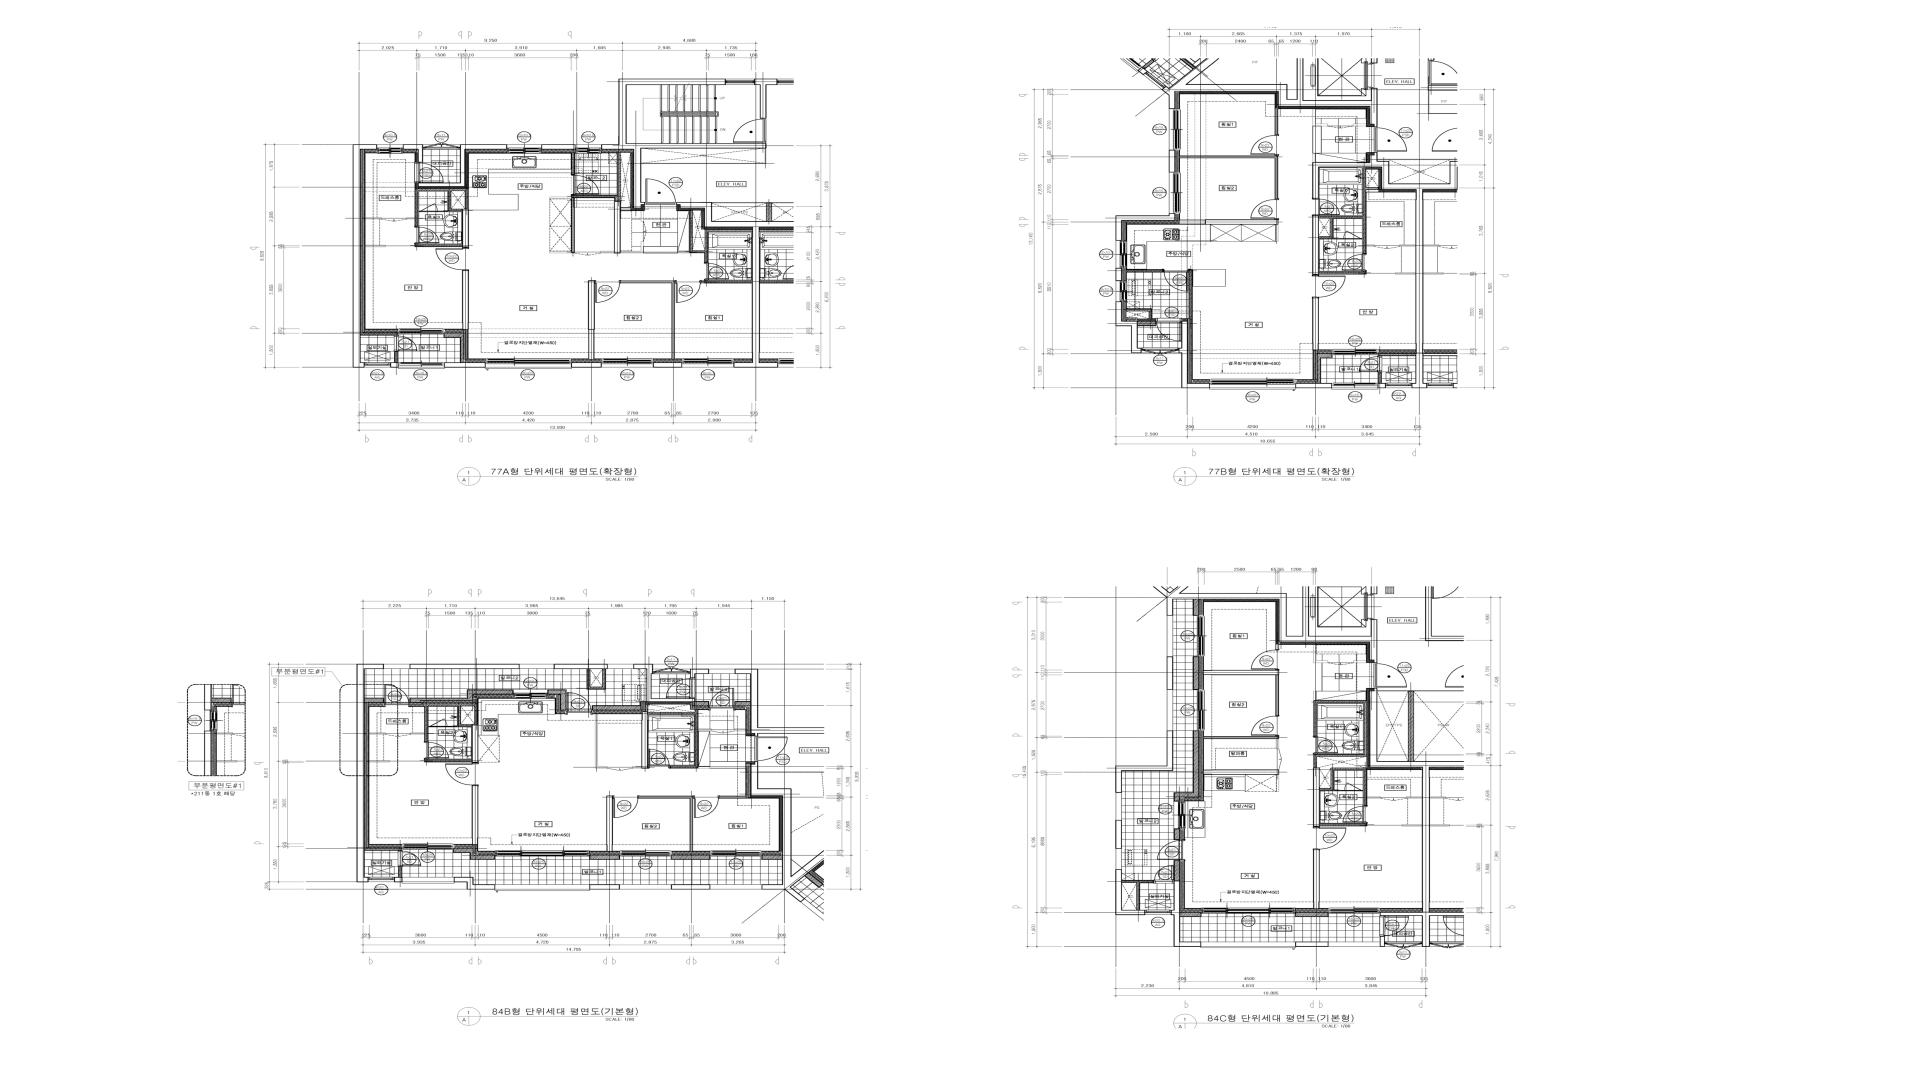door: (645, 178, 676, 204), (754, 736, 787, 761), (1374, 127, 1407, 152), (733, 119, 766, 144), (1312, 274, 1346, 298), (444, 762, 479, 786), (435, 247, 469, 270), (1374, 663, 1407, 687), (1313, 827, 1346, 849), (663, 678, 696, 698), (1379, 915, 1410, 936), (675, 280, 702, 303), (595, 280, 621, 303), (692, 795, 720, 818), (1250, 135, 1279, 156), (571, 174, 600, 195), (1156, 318, 1182, 342), (1163, 269, 1189, 291), (384, 684, 410, 707), (1251, 649, 1279, 670), (1250, 199, 1279, 219), (414, 162, 443, 182), (613, 795, 638, 818), (709, 688, 735, 711), (567, 692, 592, 715), (1251, 716, 1279, 736), (1158, 840, 1185, 860), (1312, 198, 1340, 215), (414, 225, 439, 244), (423, 741, 448, 758), (1342, 806, 1367, 823), (1313, 736, 1338, 753), (1342, 253, 1367, 270), (704, 262, 729, 280), (649, 749, 670, 769), (1358, 356, 1382, 372), (1154, 865, 1174, 884), (398, 851, 421, 866), (394, 335, 417, 351), (1142, 348, 1179, 355), (653, 667, 690, 674), (1385, 942, 1422, 948), (423, 142, 460, 149), (1345, 782, 1362, 791), (421, 203, 438, 212), (430, 719, 447, 727), (1344, 231, 1361, 239), (1374, 245, 1400, 249), (1381, 796, 1407, 800), (575, 252, 601, 256), (381, 218, 406, 222), (712, 729, 735, 733), (1278, 749, 1282, 769), (607, 767, 633, 770), (385, 733, 410, 736), (1328, 662, 1353, 665), (1328, 125, 1353, 128), (644, 222, 646, 241)
wall: (1312, 152, 1458, 388), (1370, 687, 1464, 947), (601, 78, 766, 208), (676, 202, 794, 368), (1153, 585, 1378, 663), (1162, 58, 1378, 127), (750, 761, 824, 902), (550, 152, 620, 253), (356, 663, 384, 882), (736, 669, 824, 736), (352, 144, 377, 368), (1319, 167, 1379, 253), (1179, 156, 1278, 199), (621, 281, 675, 360), (418, 144, 508, 186), (1313, 700, 1367, 767), (1116, 731, 1174, 793), (1203, 670, 1279, 716), (645, 704, 699, 769), (690, 210, 752, 262), (638, 795, 694, 852), (406, 189, 469, 227), (633, 663, 695, 702), (1179, 320, 1211, 388), (1425, 585, 1464, 641), (425, 703, 479, 741), (1171, 881, 1201, 947), (641, 148, 766, 164), (1174, 731, 1200, 802), (1320, 767, 1367, 806), (1203, 769, 1279, 791), (1320, 791, 1367, 827), (425, 727, 472, 762), (601, 200, 632, 253), (1116, 214, 1175, 240), (409, 690, 513, 703), (1116, 302, 1142, 353), (1116, 869, 1145, 915), (1203, 736, 1279, 749), (1122, 880, 1154, 910), (754, 79, 778, 119), (633, 712, 649, 769), (595, 713, 607, 769), (443, 332, 464, 363), (410, 663, 520, 669), (588, 280, 595, 360), (1179, 219, 1279, 224), (454, 848, 496, 860), (454, 877, 495, 889), (462, 270, 469, 330), (1317, 353, 1333, 382), (587, 669, 607, 690), (547, 690, 567, 711), (1312, 215, 1319, 274), (1313, 849, 1320, 909), (1313, 767, 1320, 827), (472, 786, 479, 845), (607, 795, 613, 852), (1408, 691, 1414, 761), (404, 144, 423, 162), (1312, 298, 1319, 351), (462, 208, 469, 247), (554, 663, 608, 669), (1126, 309, 1153, 319), (1313, 645, 1328, 663), (621, 241, 644, 253), (592, 705, 641, 711), (472, 724, 479, 762), (1313, 108, 1328, 125), (1167, 657, 1174, 690), (1193, 657, 1200, 690), (444, 363, 485, 368), (671, 855, 711, 860), (671, 884, 709, 889), (1189, 269, 1193, 319), (702, 280, 752, 284), (414, 243, 463, 247), (1319, 270, 1366, 274), (1296, 382, 1332, 388), (690, 669, 709, 678), (1116, 820, 1122, 848), (1295, 911, 1329, 916), (1295, 942, 1328, 947), (542, 144, 575, 149), (589, 855, 620, 860), (571, 363, 601, 368), (1168, 149, 1175, 173), (653, 363, 682, 368), (1126, 269, 1163, 273), (1174, 860, 1180, 881), (766, 203, 773, 222), (589, 885, 620, 889), (1378, 690, 1464, 691), (1193, 599, 1200, 616), (712, 202, 794, 203), (1378, 158, 1457, 160), (762, 855, 782, 860), (364, 698, 384, 703), (364, 848, 402, 851), (1378, 353, 1416, 356), (360, 332, 398, 335), (1138, 320, 1156, 326), (571, 152, 575, 174), (1116, 268, 1122, 281), (1180, 913, 1201, 916), (735, 700, 750, 705), (1174, 828, 1180, 840), (720, 795, 746, 798), (1275, 108, 1278, 135), (695, 702, 709, 705), (1379, 936, 1385, 947), (1402, 824, 1422, 827), (369, 760, 389, 762), (394, 351, 398, 363), (1378, 382, 1386, 388), (1378, 372, 1382, 382), (1400, 244, 1416, 247), (369, 732, 385, 735), (398, 866, 402, 877), (394, 877, 402, 882), (390, 363, 398, 368), (410, 732, 425, 735), (1353, 661, 1366, 663), (699, 728, 712, 731), (641, 211, 644, 222), (735, 728, 745, 731), (1395, 273, 1416, 274), (365, 245, 385, 247), (1275, 644, 1279, 649), (365, 218, 381, 219), (1407, 796, 1422, 798), (1353, 124, 1366, 125), (1367, 796, 1381, 798)
window: (1201, 942, 1296, 948), (1201, 907, 1295, 914), (1211, 378, 1296, 385), (495, 885, 589, 890), (496, 851, 589, 856), (485, 364, 572, 369), (485, 359, 571, 364), (601, 359, 653, 367), (682, 359, 733, 367), (402, 877, 455, 884), (1209, 385, 1296, 389), (1329, 907, 1381, 914), (1197, 690, 1205, 731), (1197, 616, 1205, 657), (513, 690, 547, 699), (508, 144, 542, 153), (1174, 802, 1185, 828), (1328, 942, 1381, 947), (1167, 615, 1174, 657), (1174, 108, 1180, 150), (620, 851, 671, 856), (402, 844, 454, 849), (711, 851, 762, 856), (1167, 690, 1174, 731), (1174, 173, 1180, 214), (377, 144, 404, 153), (575, 144, 601, 153), (1333, 349, 1378, 355), (398, 328, 443, 334), (1120, 240, 1127, 268), (709, 885, 762, 889), (620, 885, 671, 889), (1332, 382, 1378, 386), (1116, 793, 1122, 820), (398, 365, 444, 369), (520, 663, 554, 669), (1120, 281, 1127, 302), (1170, 173, 1174, 214), (1170, 109, 1174, 150), (725, 79, 754, 84), (1386, 382, 1412, 388), (368, 877, 394, 882), (709, 669, 736, 674), (608, 663, 634, 669), (384, 663, 410, 669), (1145, 910, 1171, 915), (1116, 848, 1122, 869), (364, 363, 390, 368), (1332, 386, 1378, 389), (398, 363, 444, 365), (1116, 240, 1120, 268), (1116, 281, 1120, 302)
